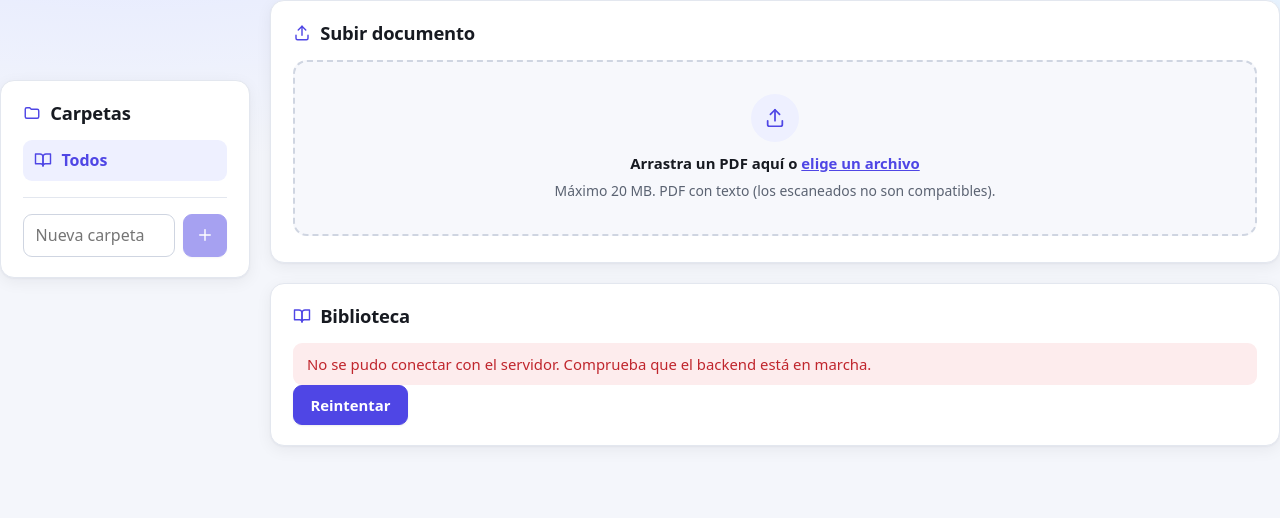
Test case: LibraryPage › permite reintentar si la carga falla
Expected: the text "No se pudo conectar" is shown, [307,354,871,374]
Click the button "Reintentar".
click(350, 405)  # box [293,385,408,425]
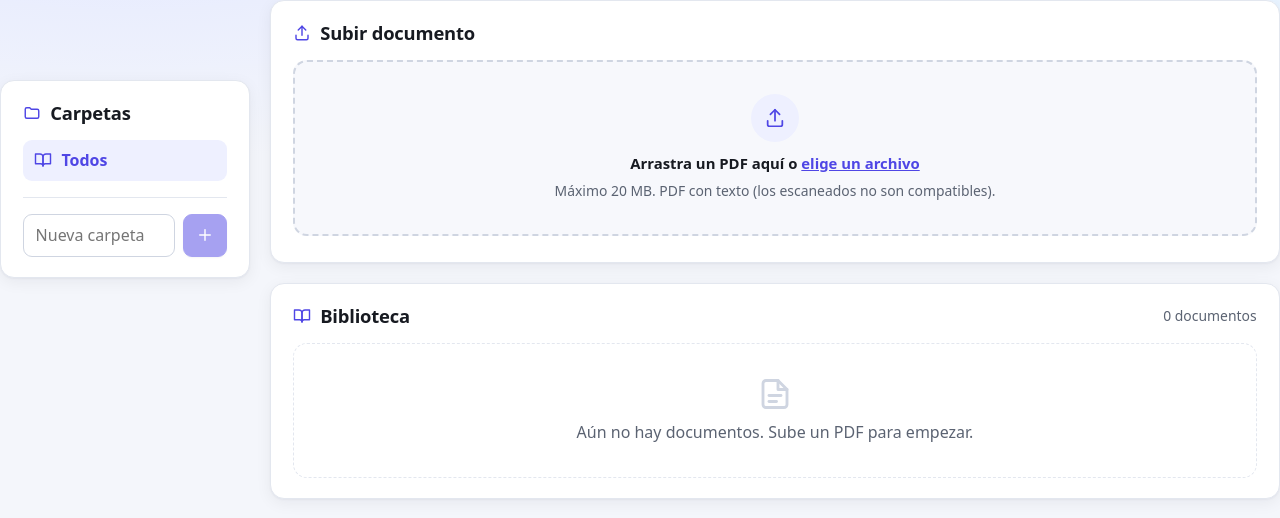
Result: the text "Aún no hay documentos. Sube un PDF para empezar." is shown at [293,343,1257,478]
